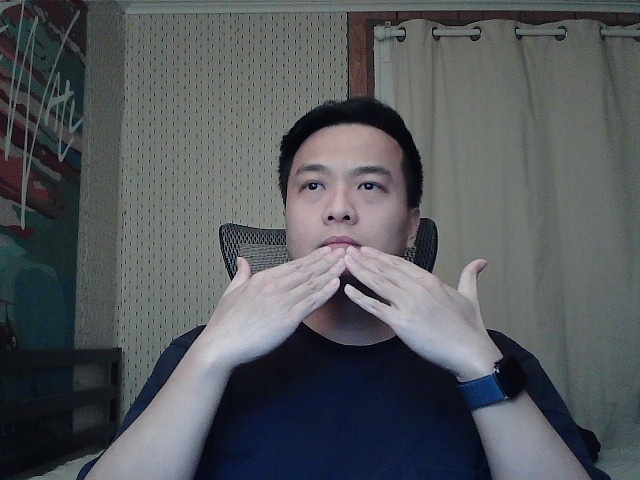Thank You: (181, 227, 517, 377)
